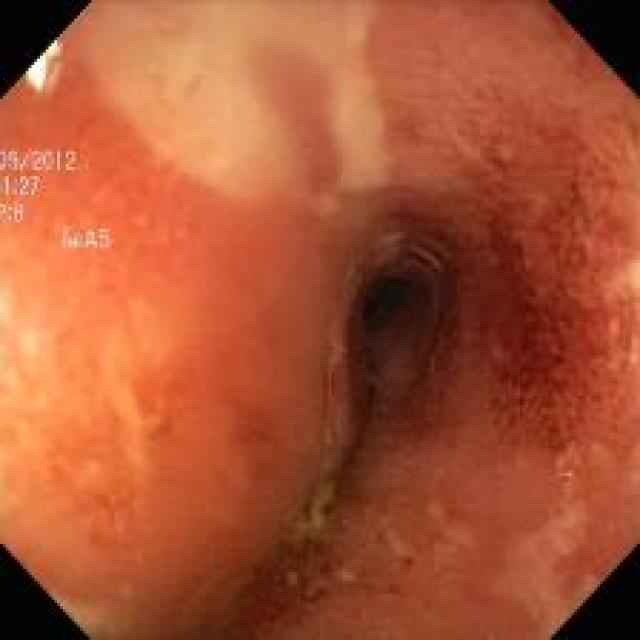ulcerative-colitis-grade-2-3: (225, 4, 638, 640)
